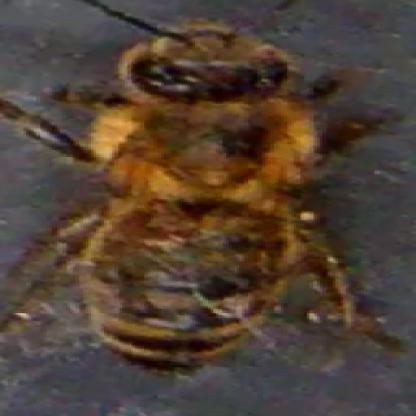bee: (78, 17, 328, 373)
